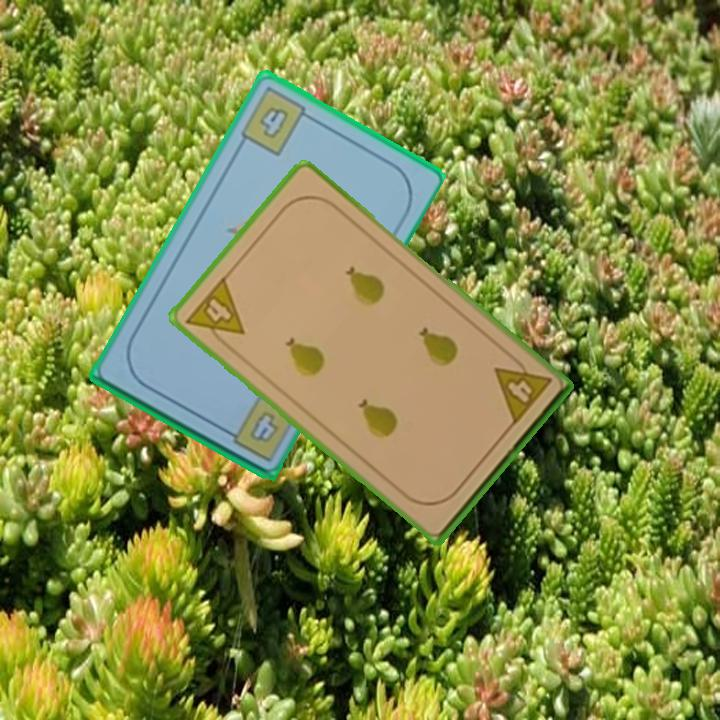4b: (236, 83, 317, 159), (245, 406, 281, 446)
4p: (182, 272, 248, 353), (490, 350, 555, 428)
